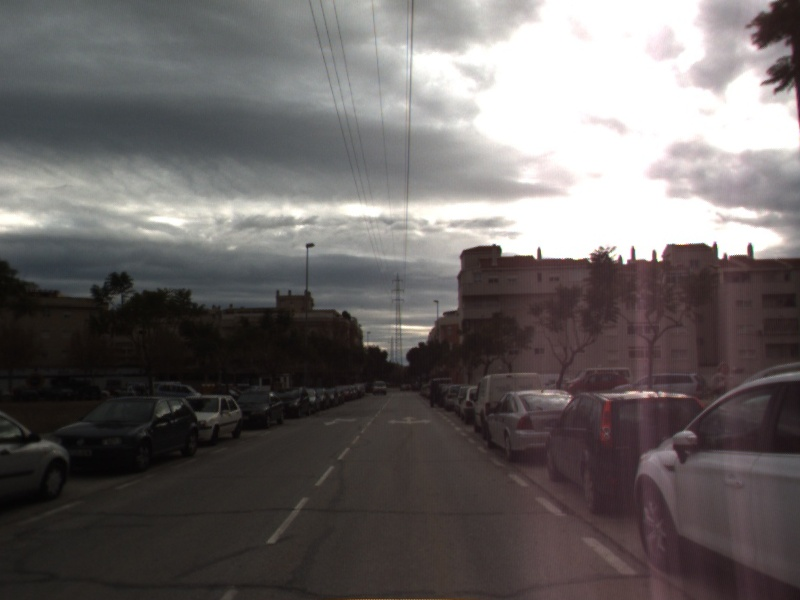STRAIGHT_LEFT_RIGHT: (385, 414, 433, 426)
